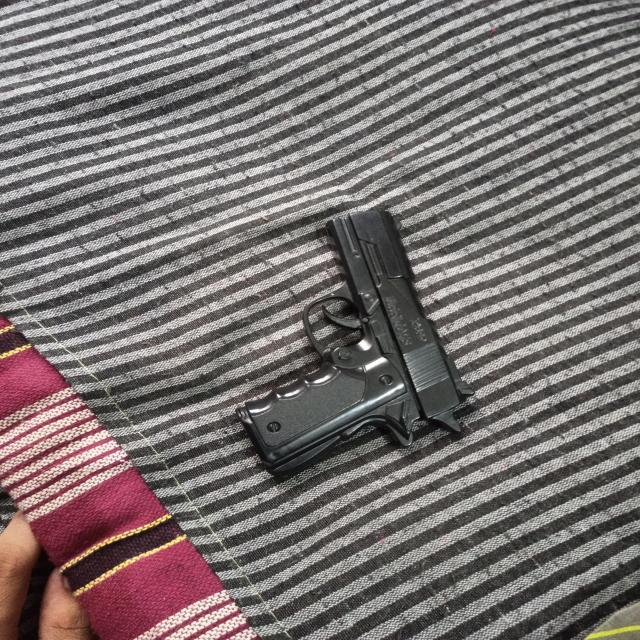handgun: (236, 199, 473, 480)
